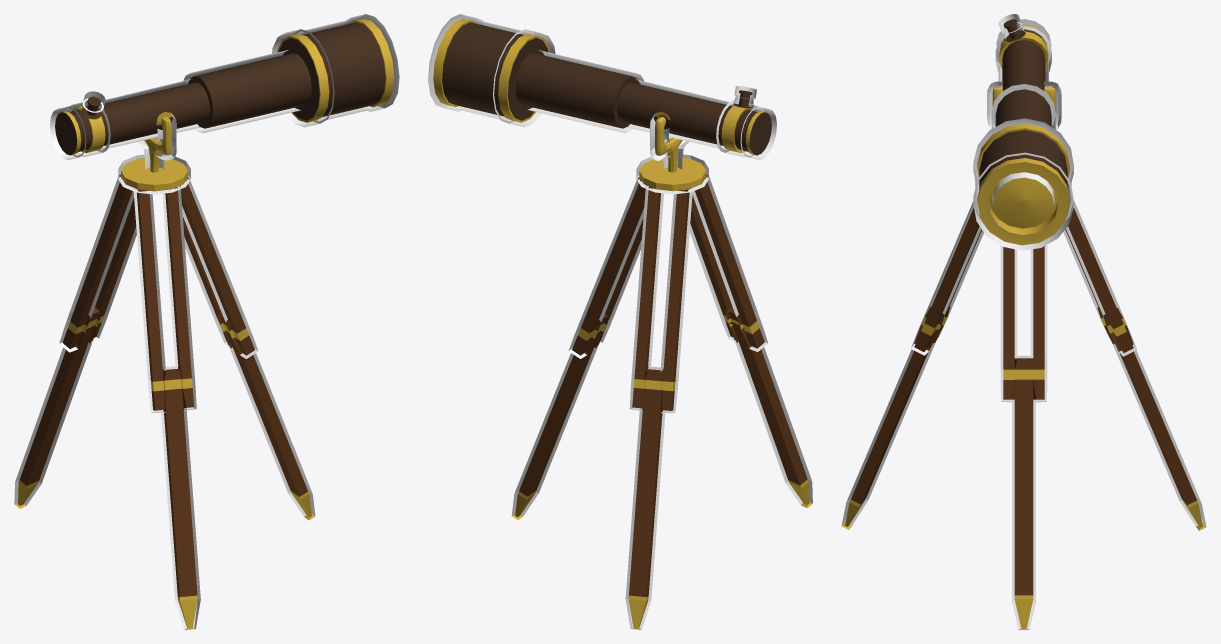
The model's file is telescope.glb.
3 views of the same model, side by side, from view 1: azimuth 30°, elevation 25°; view 2: azimuth 150°, elevation 25°; view 3: azimuth 270°, elevation 25° (orthographic). The views are drawn at different scales.
Visible parts, largest first — view 1: telescopeBottom, telescope, telescopeMiddle; view 2: telescopeBottom, telescope, telescopeMiddle; view 3: telescopeBottom, telescope, telescopeMiddle.
Part boxes in pixels (x1,y1,x2,y2): telescopeBottom: (14, 154, 315, 629); telescope: (50, 14, 399, 160); telescopeMiddle: (138, 111, 176, 172); telescopeBottom: (511, 154, 812, 629); telescope: (428, 14, 776, 160); telescopeMiddle: (650, 111, 689, 172); telescopeBottom: (841, 200, 1206, 629); telescope: (973, 14, 1073, 250); telescopeMiddle: (987, 81, 1061, 129).
Bounding box in the file's own units: 1 × 1.48 × 0.9685.
